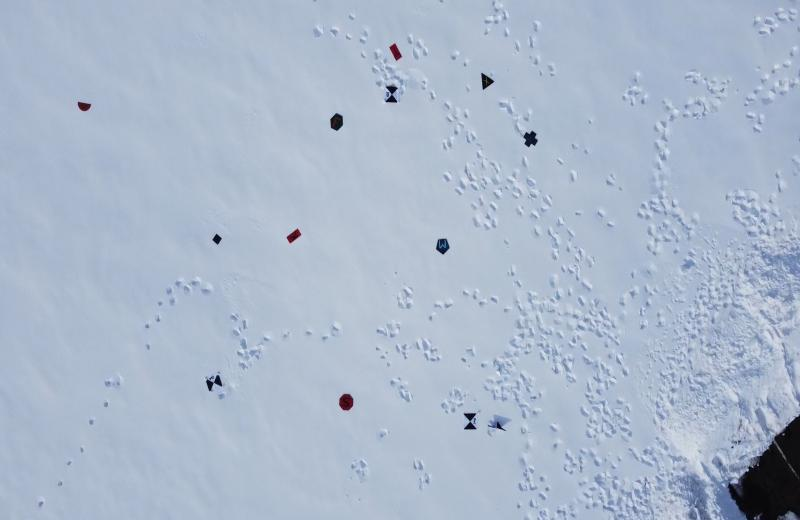Cross: (523, 130, 538, 148)
Hexagon: (330, 111, 344, 132)
Octagon: (338, 394, 354, 411)
Pentagon: (436, 238, 450, 254)
Rectangle: (285, 228, 302, 243), (389, 43, 403, 61)
Semi Circle: (77, 100, 92, 112)
Square: (212, 234, 222, 245)
Triangle: (480, 72, 495, 91)
